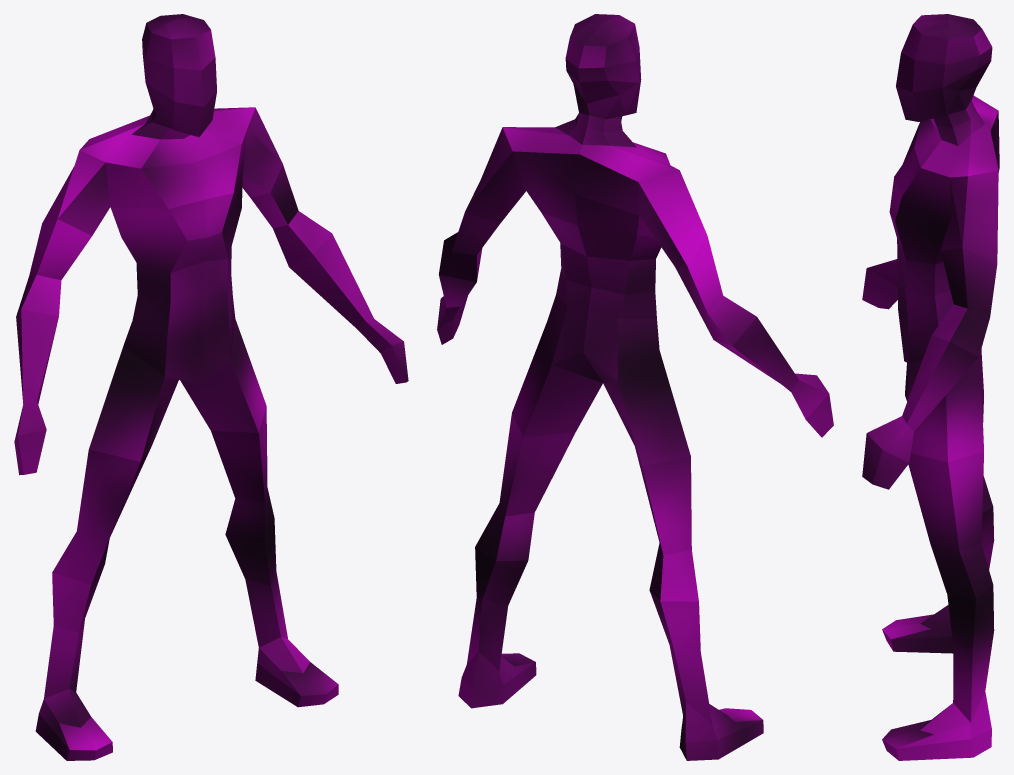
File: player6.fbx
3 renders of one model, left to right at view 1: azimuth 30°, elevation 25°; view 2: azimuth 150°, elevation 25°; view 3: azimuth 270°, elevation 25°, orthographic. The views are drawn at different scales.
Parts seen in each view (by area): view 1: BASE_Low Poly Man; view 2: BASE_Low Poly Man; view 3: BASE_Low Poly Man.
Part boxes in pixels (left/top/right/bottom): BASE_Low Poly Man: left=14, top=14, right=408, bottom=760; BASE_Low Poly Man: left=437, top=14, right=833, bottom=760; BASE_Low Poly Man: left=862, top=14, right=999, bottom=760.
Size of the model in its own units: 47.75 by 15.03 by 81.61.
Materials: 1 (1 with a texture image).
